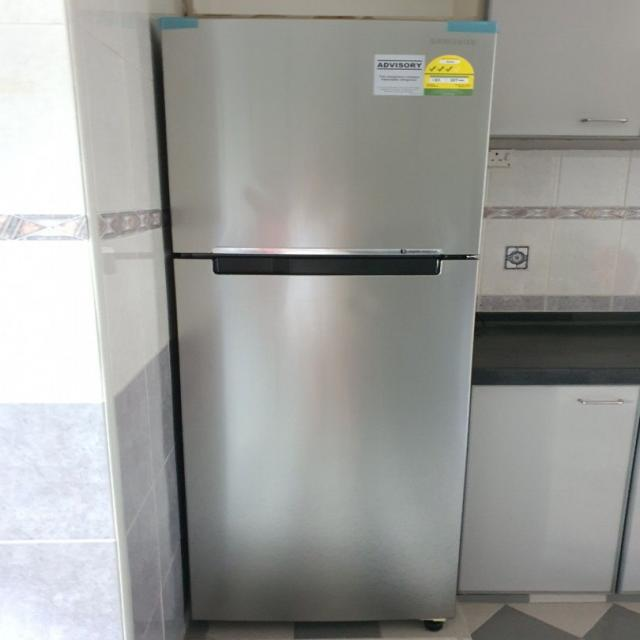refrigerator: (150, 14, 499, 632)
